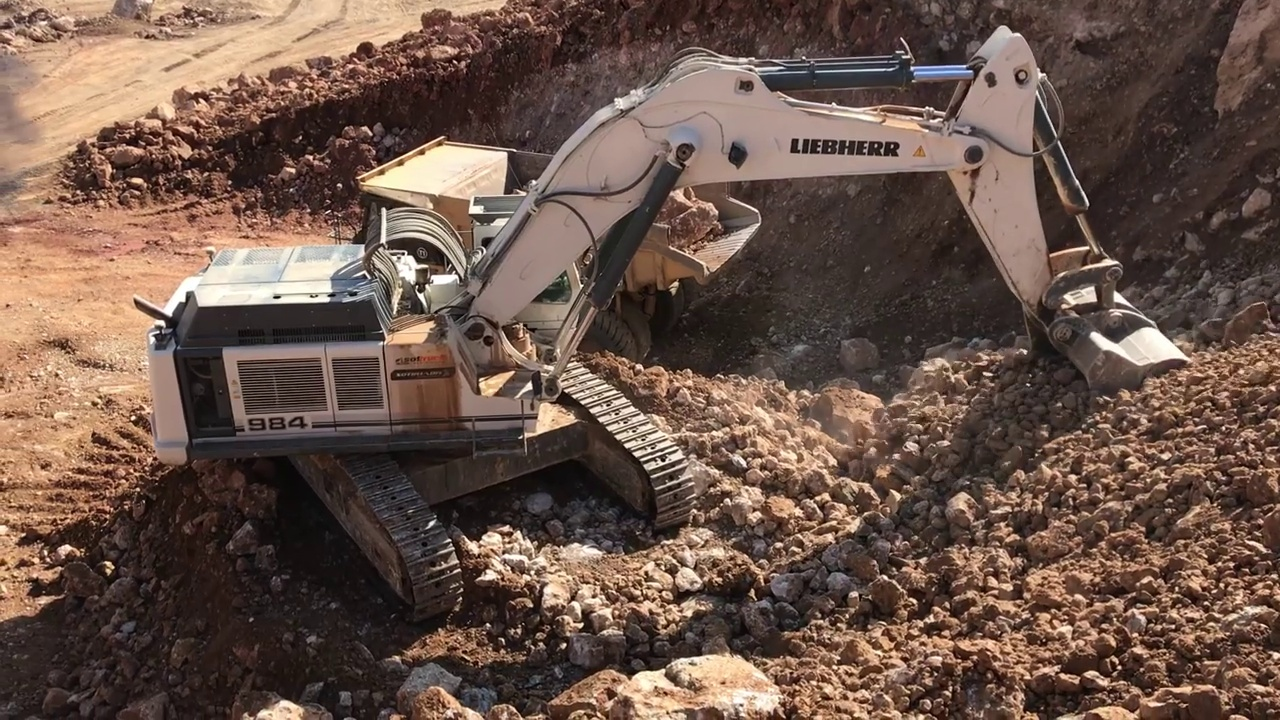dumper: (355, 133, 763, 369)
excavator: (147, 24, 1200, 625)
